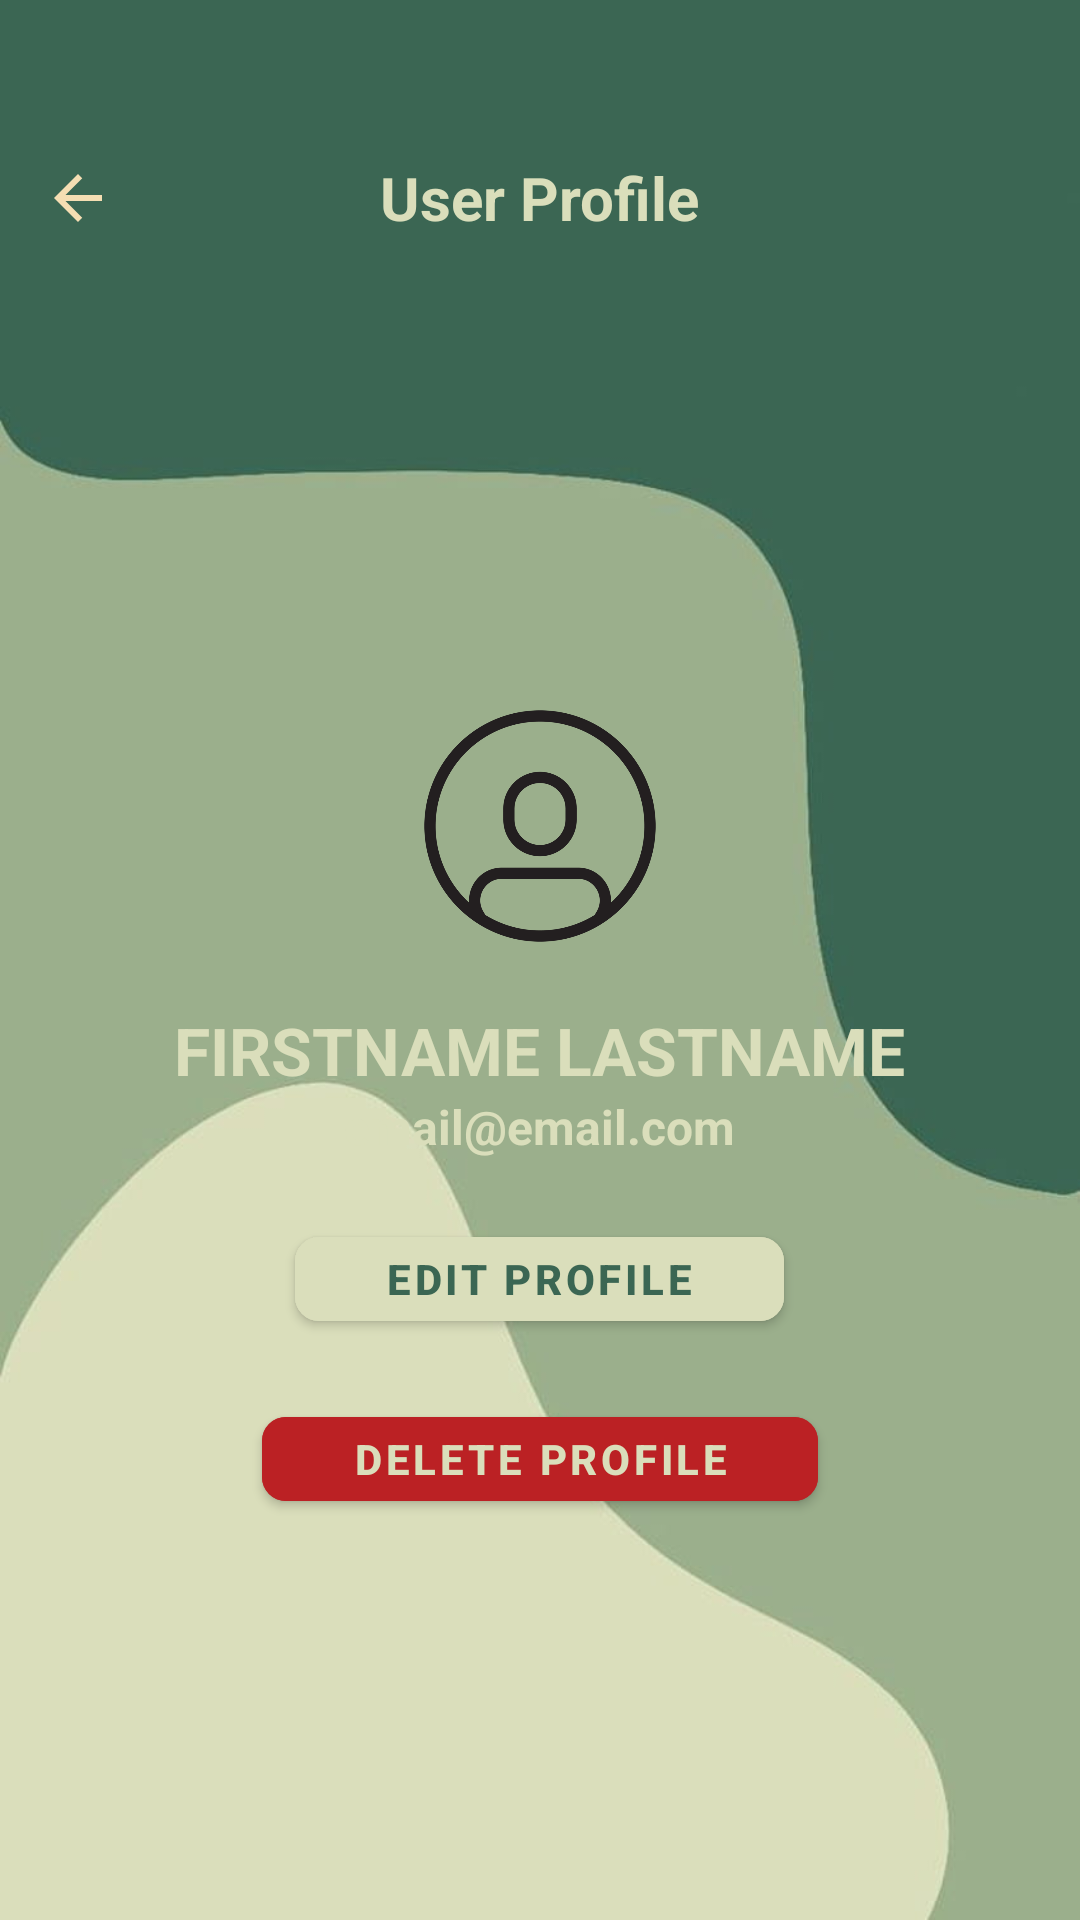

Icons on this 1080*1920 Android screen, each with its box as bbox=(x1, y1, x2, y2):
arrow back: bbox=(54, 174, 102, 222)
user profile: bbox=(424, 710, 656, 942)
